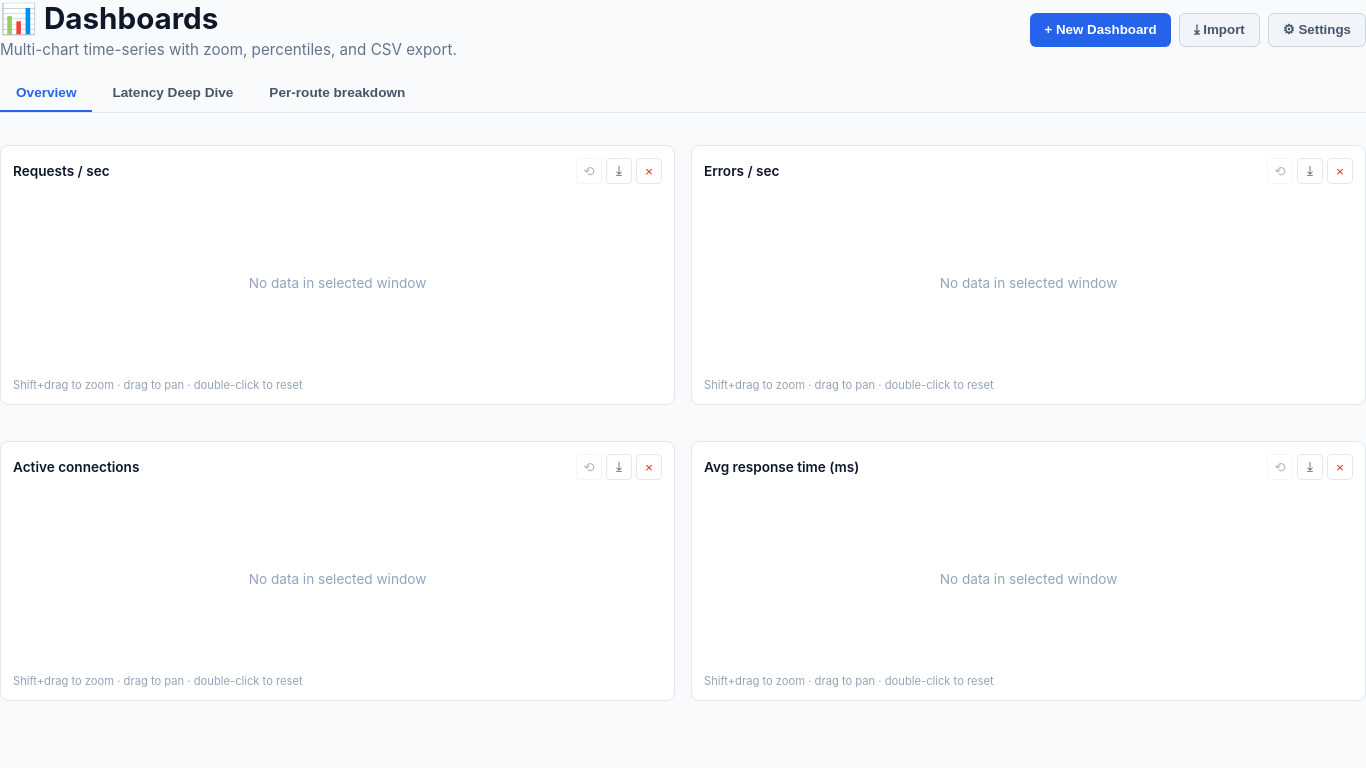
Scenario: DashboardsView › opens import modal when Import clicked
Click the button "⤓ Import": {"x": 1219, "y": 30} [1179,12,1260,46]
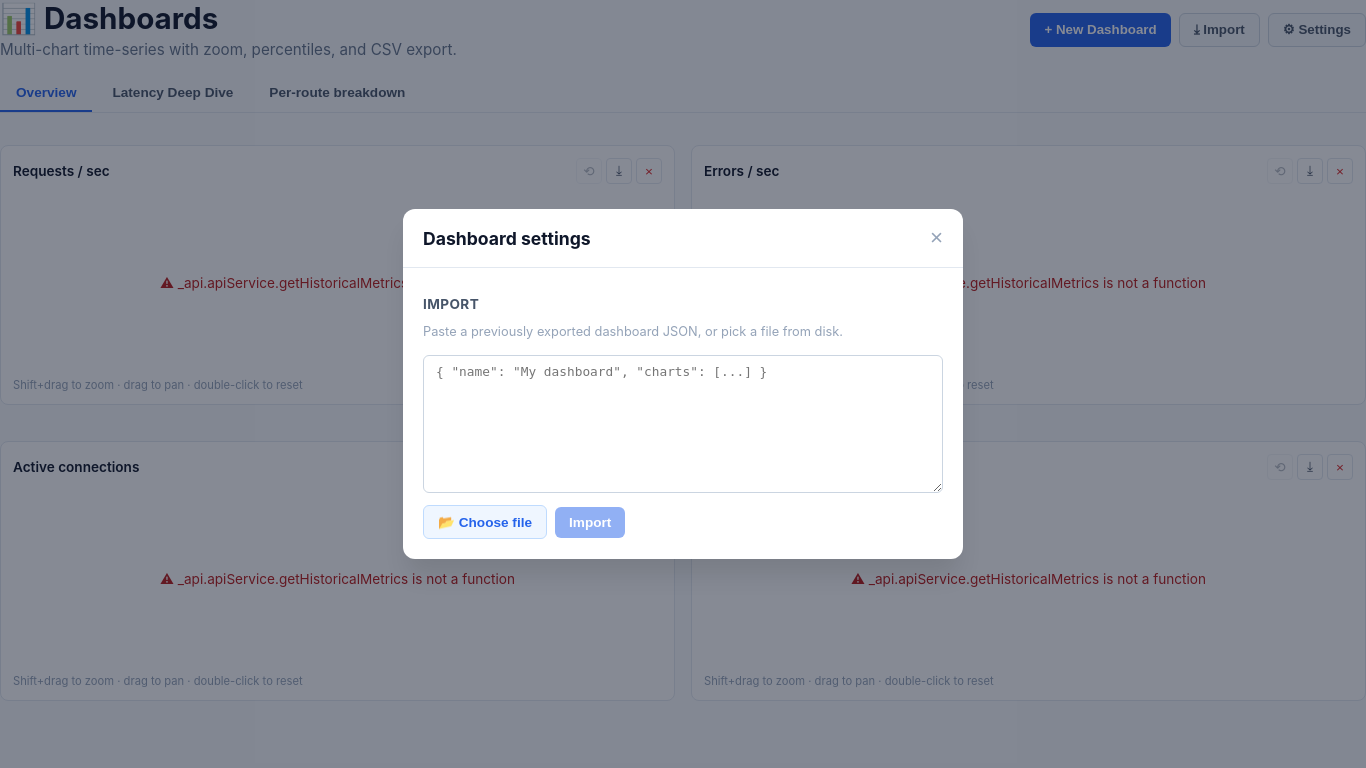
expect the element with class "settings-modal" is shown: met, box [403,209,963,559]
